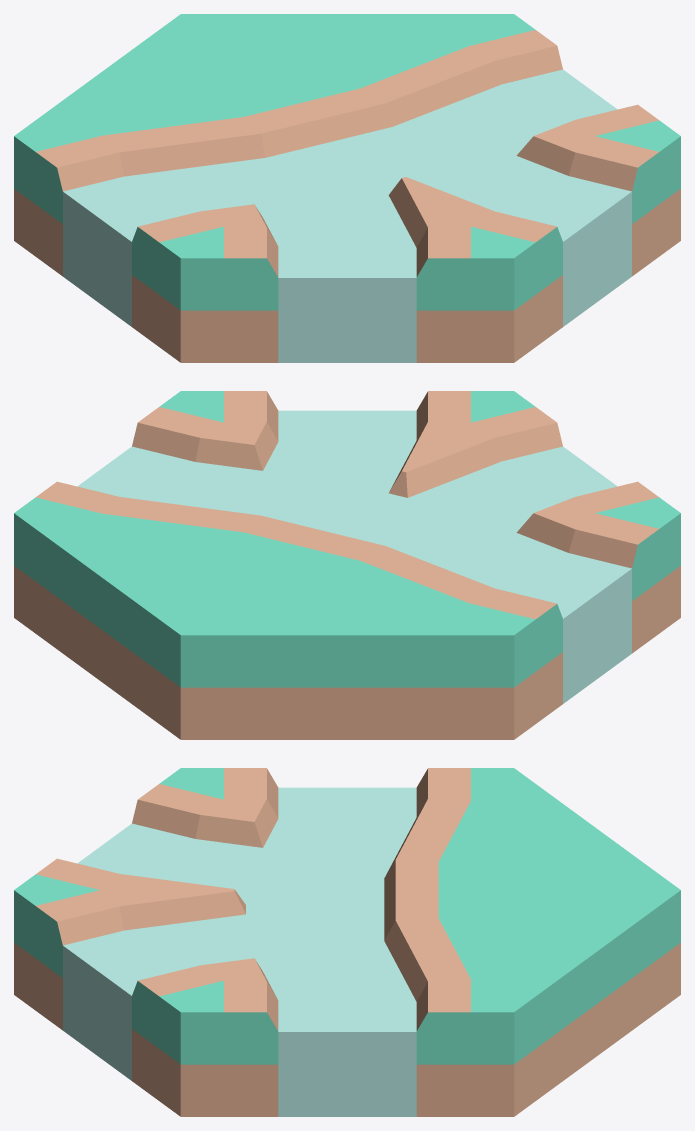
File: river_intersectionH.glb
The picture shows the model from 3 angles, top to bottom: view 1: azimuth 30°, elevation 25°; view 2: azimuth 150°, elevation 25°; view 3: azimuth 270°, elevation 25°; orthographic projection.
Parts seen in each view (by area): view 1: river_intersectionH; view 2: river_intersectionH; view 3: river_intersectionH.
Part boxes in pixels (x1=…): river_intersectionH: x1=14, y1=14, x2=680, y2=362; river_intersectionH: x1=14, y1=391, x2=680, y2=739; river_intersectionH: x1=14, y1=768, x2=680, y2=1116.
Bounding box in the file's own units: 1 × 0.2 × 1.15.
